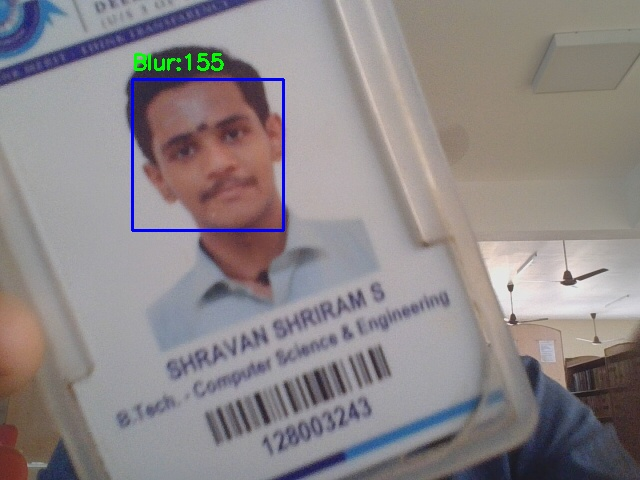fake: (132, 79, 283, 230)
